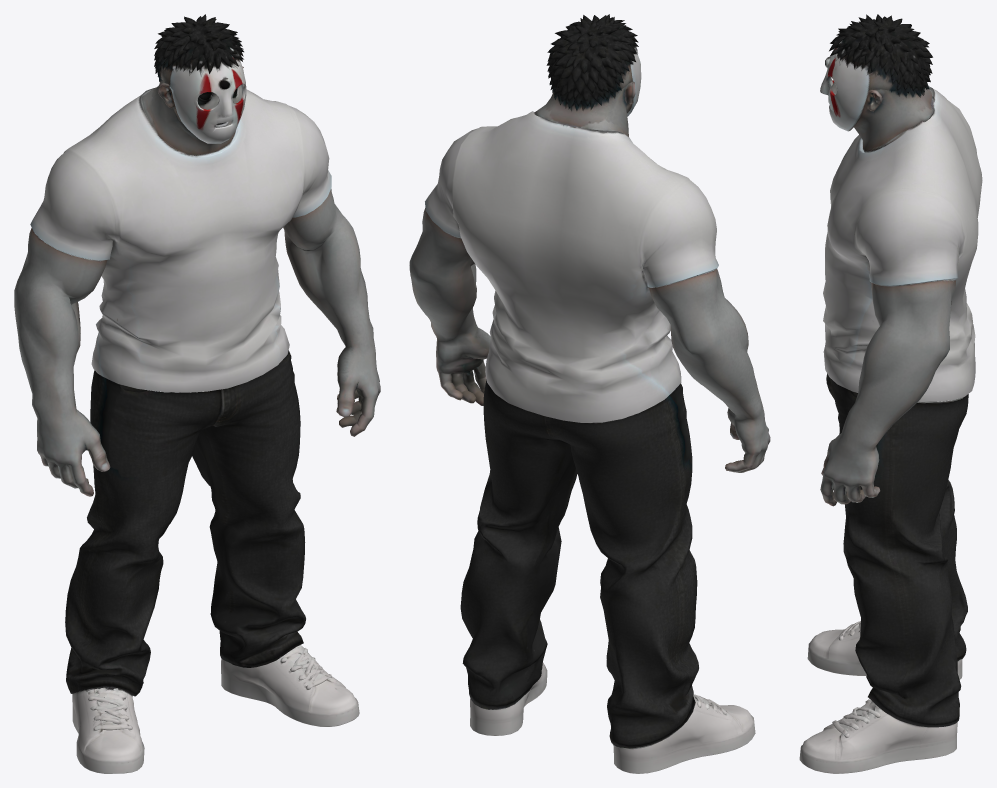
The model's file is sobaya_preview.glb.
The picture shows the model from 3 angles, left to right: view 1: azimuth 30°, elevation 25°; view 2: azimuth 150°, elevation 25°; view 3: azimuth 270°, elevation 25°; orthographic projection.
Parts seen in each view (by area): view 1: Sobaya; view 2: Sobaya; view 3: Sobaya.
Part boxes in pixels (<box>): Sobaya: <box>14,14,380,773</box>; Sobaya: <box>409,14,770,773</box>; Sobaya: <box>799,14,982,773</box>.
Size of the model in its own units: 0.8925 by 1.8 by 0.4318.
Materials: 1 (1 with a texture image).
